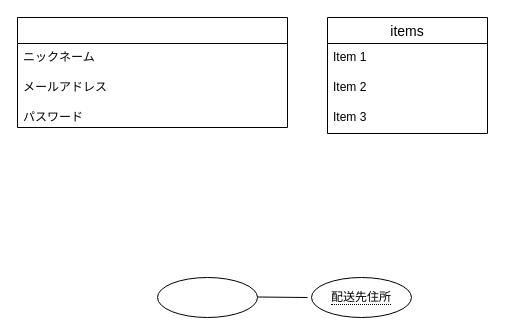
The diagram is 505 pixels wide and 335 high, and some of its shapes have lost their labels. The box of each missing label's shape, as (x1, y1, x2, y2) in pixels:
users: (16, 16, 288, 128)
購入: (156, 276, 258, 318)
